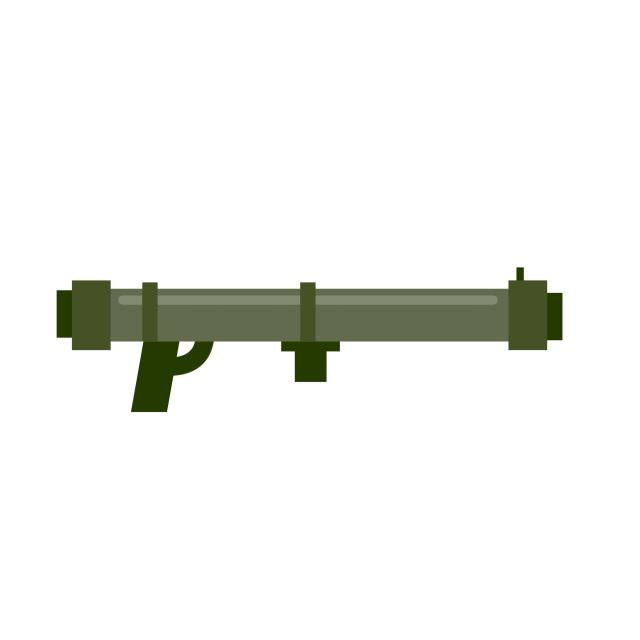Weapon: (56, 279, 563, 411)
